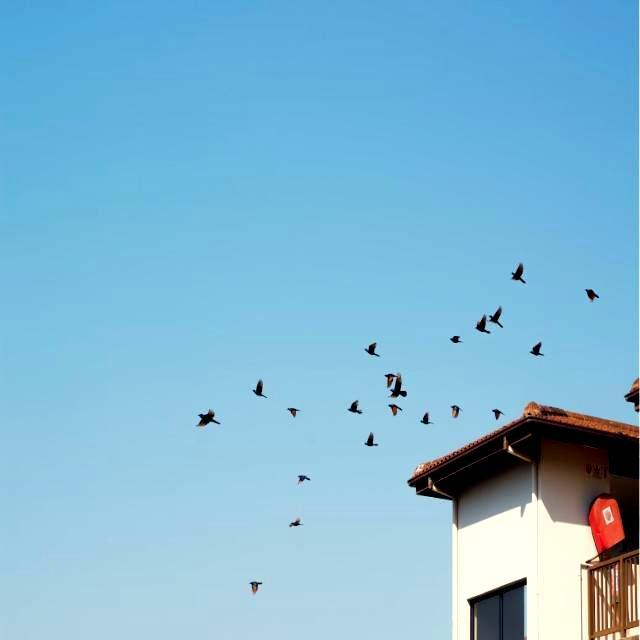bird: (192, 408, 222, 438), (242, 570, 272, 598), (247, 372, 268, 406), (488, 304, 507, 337), (508, 262, 530, 290), (342, 390, 363, 418), (582, 284, 602, 310), (471, 311, 488, 340), (282, 399, 300, 426), (284, 516, 307, 536), (360, 430, 380, 453), (363, 340, 382, 364), (389, 381, 410, 402), (528, 338, 548, 360), (382, 401, 405, 419), (296, 468, 314, 488), (448, 401, 466, 421), (447, 328, 462, 352), (488, 407, 506, 425), (418, 411, 434, 428), (384, 371, 396, 388)
